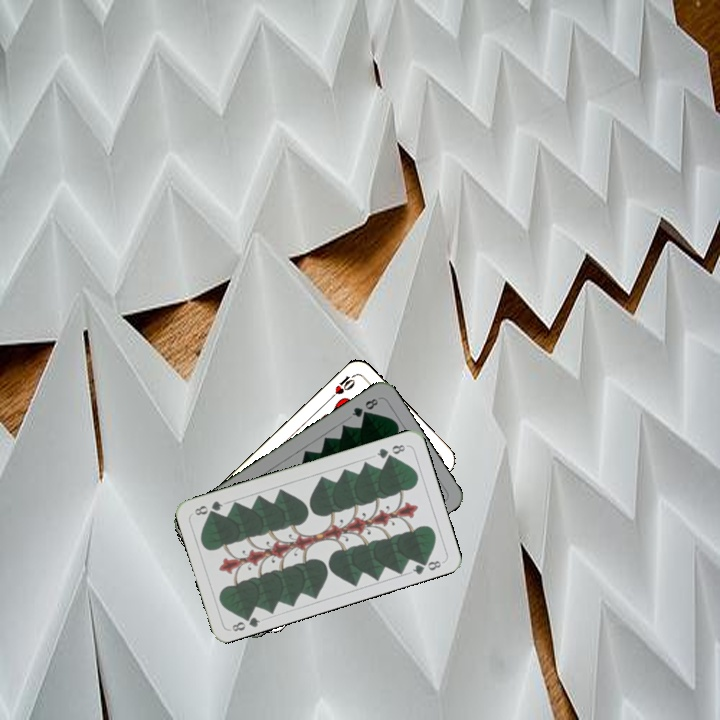G8: (228, 609, 263, 634), (348, 394, 381, 420), (373, 440, 408, 461)
H10: (325, 370, 358, 402)
